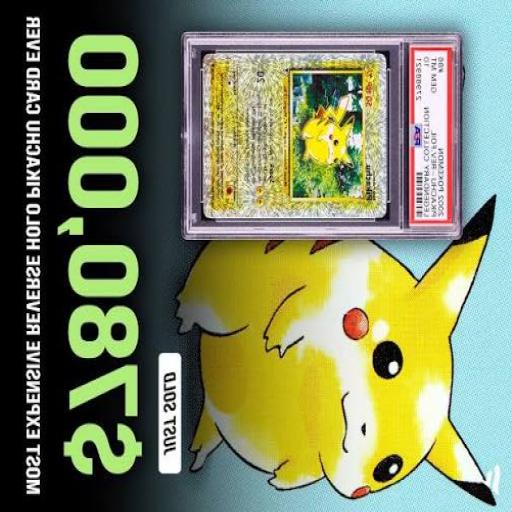Pikachu: (176, 193, 496, 507), (298, 97, 354, 169)
